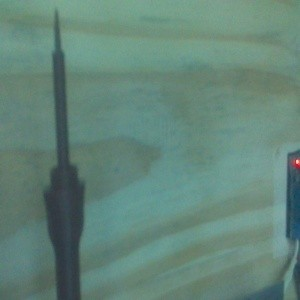solder: (41, 6, 87, 300)
